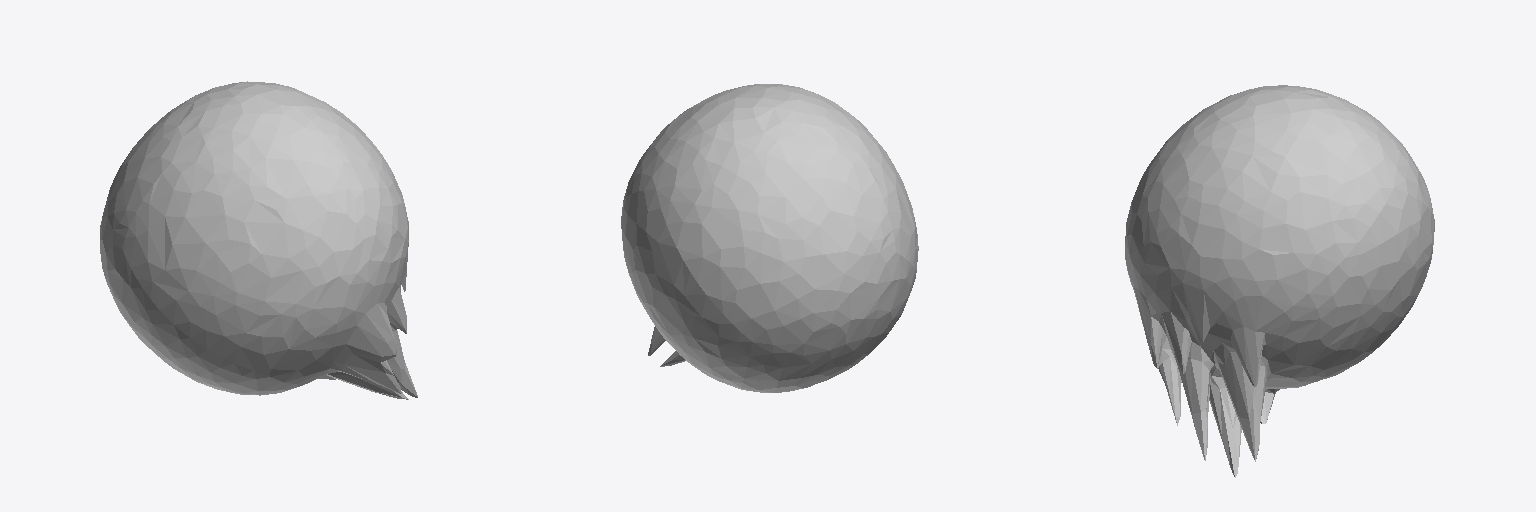
File: planet.obj
3 renders of one model, left to right at view 1: azimuth 30°, elevation 25°; view 2: azimuth 150°, elevation 25°; view 3: azimuth 270°, elevation 25°, orthographic.
Bounding box in the file's own units: 841 × 963 × 850.